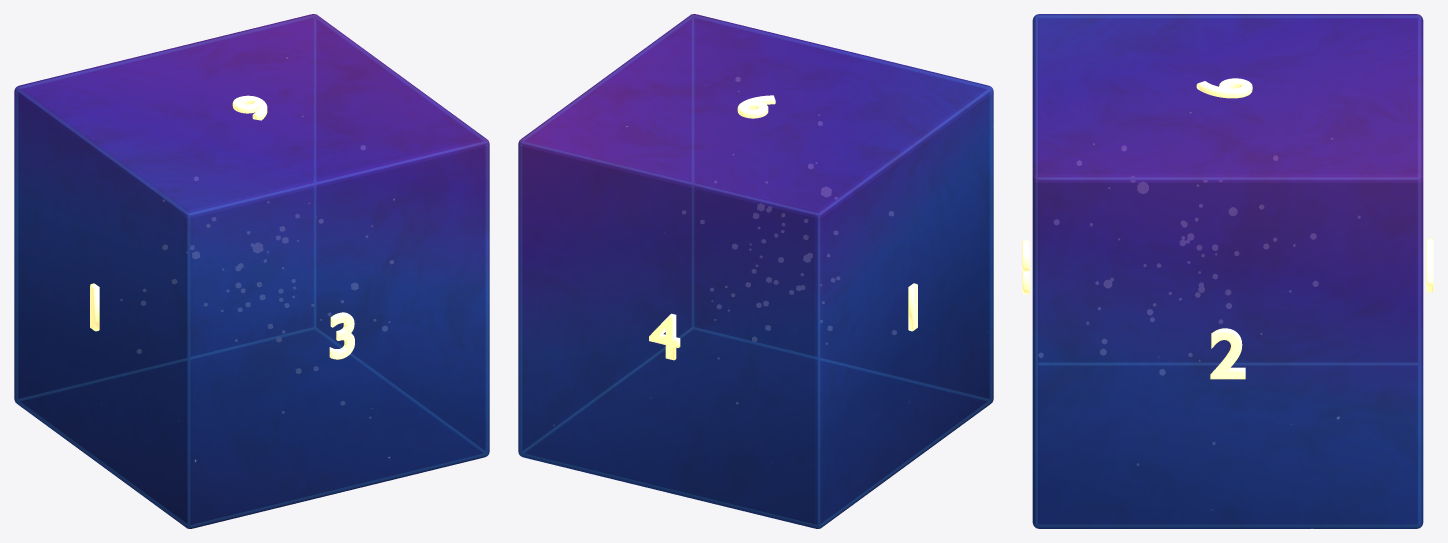
Rendered from D6_六面骰_星穹_baked.glb.
3 renders of one model, left to right at view 1: azimuth 30°, elevation 25°; view 2: azimuth 150°, elevation 25°; view 3: azimuth 270°, elevation 25°, orthographic. The views are drawn at different scales.
Parts seen in each view (by area): view 1: D6_Body_6_Faces, D6_Galaxy_Clean_Edge_Divider_v6, D6_Face_03_3, D6_Clustered_StarDust_v5, D6_Face_06_6; view 2: D6_Body_6_Faces, D6_Galaxy_Clean_Edge_Divider_v6, D6_Face_04_4, D6_Clustered_StarDust_v5, D6_Face_06_6; view 3: D6_Body_6_Faces, D6_Galaxy_Clean_Edge_Divider_v6, D6_Face_02_2, D6_Clustered_StarDust_v5, D6_Face_06_6.
Boxes of the visible parts, bbox=[...] form: D6_Body_6_Faces: bbox=[14, 14, 489, 528]; D6_Galaxy_Clean_Edge_Divider_v6: bbox=[16, 15, 487, 527]; D6_Face_03_3: bbox=[329, 312, 354, 359]; D6_Clustered_StarDust_v5: bbox=[121, 146, 393, 417]; D6_Face_06_6: bbox=[232, 95, 267, 120]; D6_Body_6_Faces: bbox=[518, 14, 993, 528]; D6_Galaxy_Clean_Edge_Divider_v6: bbox=[520, 15, 991, 527]; D6_Face_04_4: bbox=[649, 313, 680, 360]; D6_Clustered_StarDust_v5: bbox=[682, 77, 896, 403]; D6_Face_06_6: bbox=[737, 95, 775, 118]; D6_Body_6_Faces: bbox=[1032, 14, 1423, 528]; D6_Galaxy_Clean_Edge_Divider_v6: bbox=[1035, 16, 1420, 526]; D6_Face_02_2: bbox=[1210, 328, 1245, 379]; D6_Clustered_StarDust_v5: bbox=[1039, 144, 1359, 464]; D6_Face_06_6: bbox=[1196, 78, 1252, 98].
Size of the model in its own units: 2.43 by 2.43 by 2.43.
Materials: 4 (1 with a texture image).
